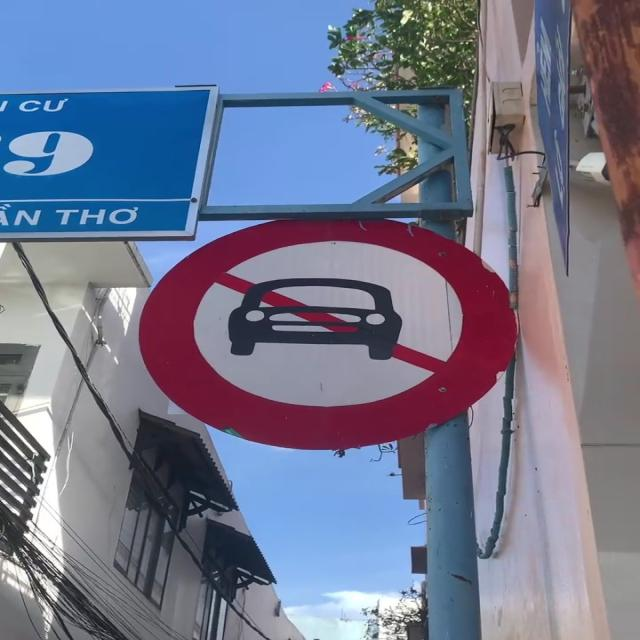Cam_O_To: (130, 211, 517, 452)
